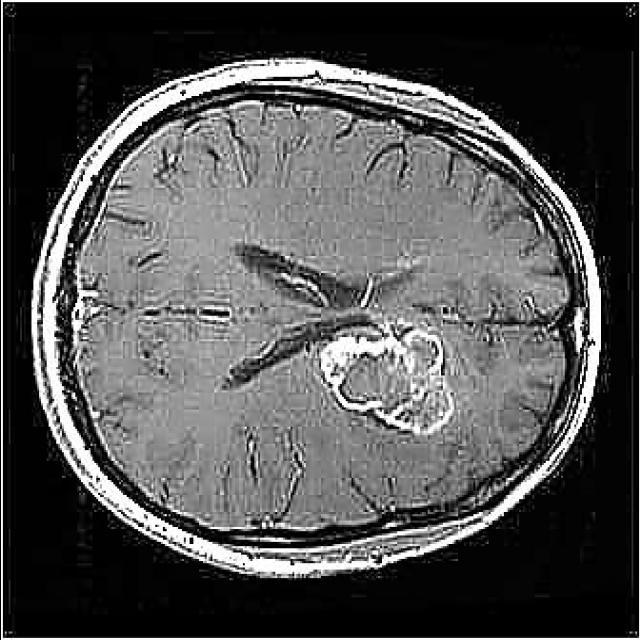tumor: (225, 309, 453, 437)
